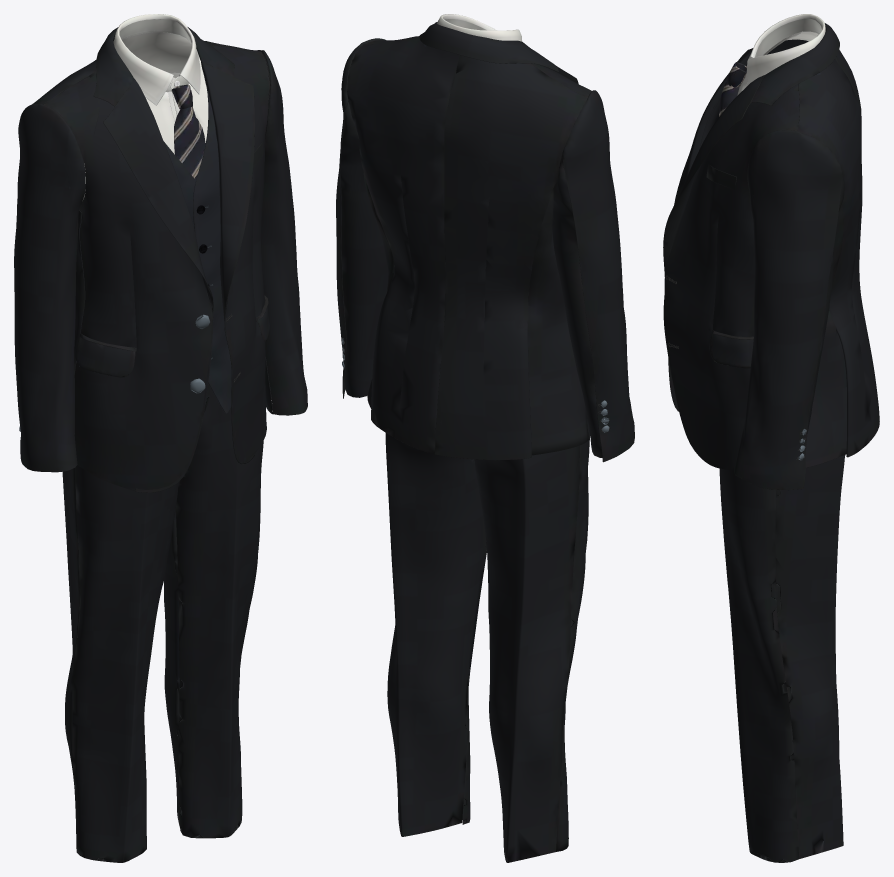
The model's file is tailored.glb.
3 views of the same model, side by side, from view 1: azimuth 30°, elevation 25°; view 2: azimuth 150°, elevation 25°; view 3: azimuth 270°, elevation 25° (orthographic). The views are drawn at different scales.
Visible parts, largest first — view 1: body-8, body-13, body-14, body-11, body-4, body-7, body-12, body-5, body-6, body-9, body-10; view 2: body-12, body-9, body-8, body-11, body-6, body-4, body-14, body-5, body-13; view 3: body-5, body-7, body-12, body-13, body-9, body-4, body-6, body-8.
Boxes of the visible parts, x1=… form: body-8: x1=32, y1=59, x2=231, y2=491; body-13: x1=85, y1=32, x2=263, y2=838; body-14: x1=72, y1=142, x2=263, y2=862; body-11: x1=14, y1=104, x2=85, y2=472; body-4: x1=74, y1=27, x2=254, y2=464; body-7: x1=214, y1=45, x2=269, y2=463; body-12: x1=62, y1=14, x2=205, y2=848; body-5: x1=258, y1=50, x2=307, y2=415; body-6: x1=75, y1=71, x2=272, y2=492; body-9: x1=74, y1=19, x2=261, y2=434; body-10: x1=188, y1=57, x2=208, y2=142; body-12: x1=385, y1=14, x2=579, y2=862; body-9: x1=347, y1=19, x2=602, y2=457; body-8: x1=434, y1=55, x2=591, y2=460; body-11: x1=562, y1=90, x2=634, y2=462; body-6: x1=340, y1=63, x2=578, y2=397; body-4: x1=359, y1=22, x2=558, y2=408; body-14: x1=556, y1=437, x2=589, y2=851; body-5: x1=336, y1=38, x2=385, y2=398; body-13: x1=462, y1=552, x2=486, y2=824; body-5: x1=734, y1=130, x2=842, y2=490; body-7: x1=663, y1=84, x2=799, y2=470; body-12: x1=719, y1=14, x2=845, y2=858; body-13: x1=719, y1=31, x2=818, y2=862; body-9: x1=755, y1=18, x2=879, y2=457; body-4: x1=663, y1=23, x2=846, y2=467; body-6: x1=668, y1=48, x2=844, y2=433; body-8: x1=668, y1=50, x2=878, y2=400.
Bounding box in the file's own units: 0.5555 × 1.55 × 0.379.
3 materials, 3 textured.
